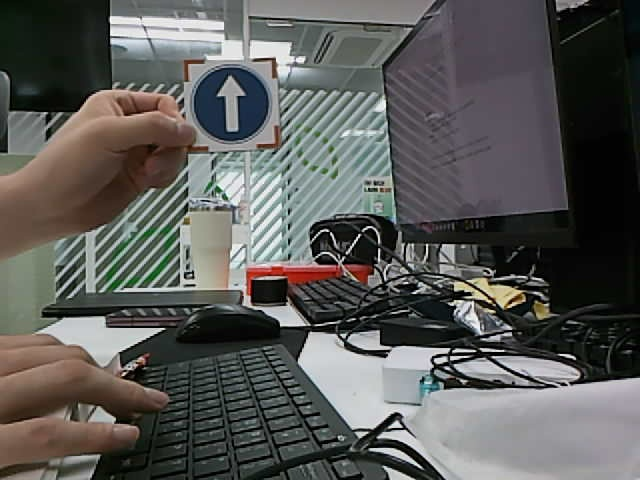go: (192, 65, 274, 145)
